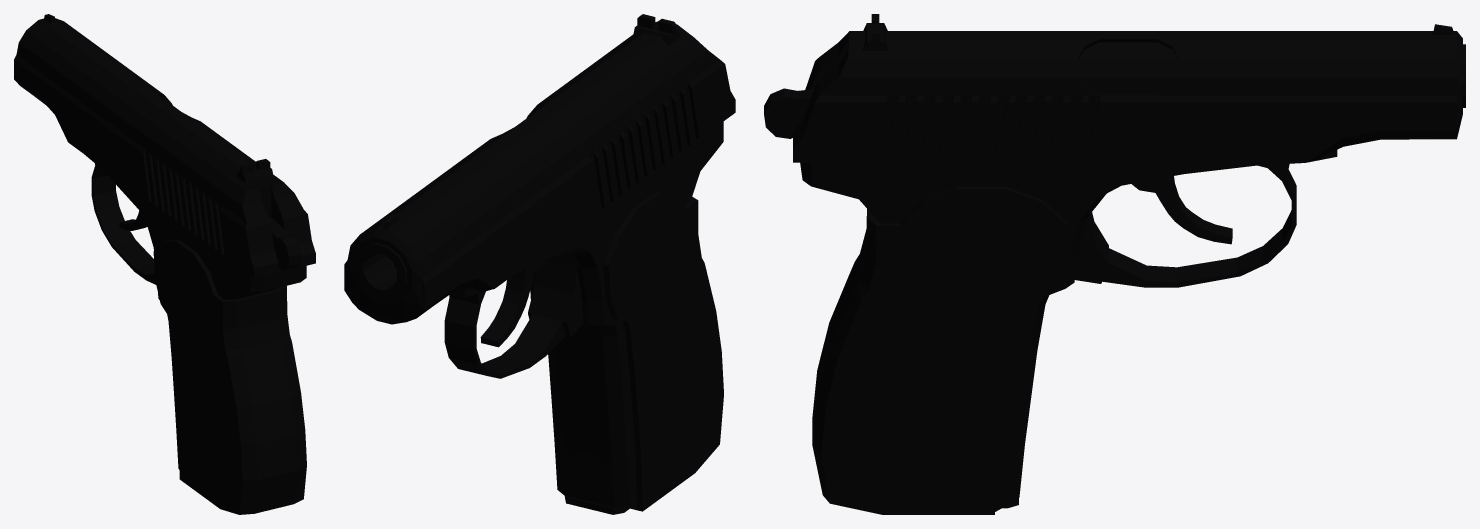
The model's file is makarov_pm.glb.
3 views of the same model, side by side, from view 1: azimuth 30°, elevation 25°; view 2: azimuth 150°, elevation 25°; view 3: azimuth 270°, elevation 25° (orthographic). The views are drawn at different scales.
Parts seen in each view (by area): view 1: Grip, Slide, Hammer; view 2: Grip, Slide, Trigger, Magazine; view 3: Grip, Slide, Trigger, Hammer.
Boxes of the visible parts, x1,y1,x2,y2 form: Grip: [84, 154, 306, 514]; Slide: [14, 14, 315, 278]; Hammer: [269, 217, 301, 270]; Grip: [354, 121, 723, 511]; Slide: [344, 14, 735, 324]; Trigger: [480, 260, 543, 347]; Magazine: [564, 496, 629, 514]; Grip: [800, 44, 1465, 514]; Slide: [793, 14, 1462, 162]; Trigger: [1132, 176, 1232, 244]; Hammer: [764, 88, 813, 138].
Size of the model in its own units: 10.12 by 51.07 by 68.98.
1 material, 1 textured.
